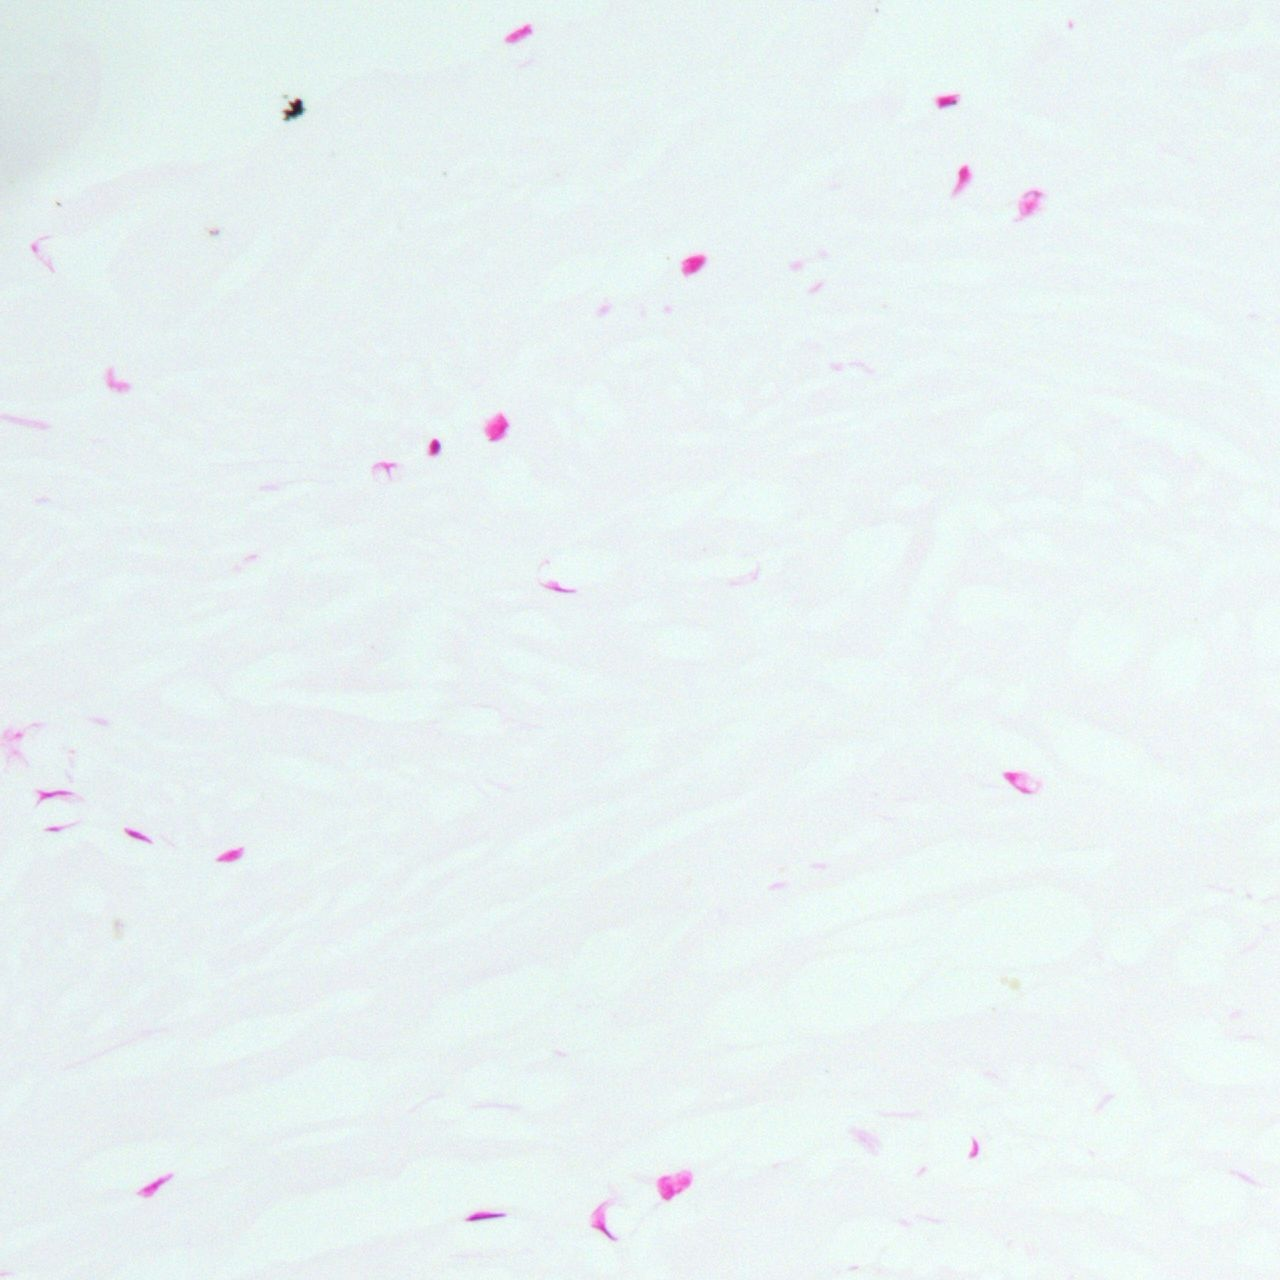dust: (281, 94, 302, 121)
nucleus-FG: (674, 246, 712, 280), (485, 411, 509, 441), (933, 91, 962, 110), (427, 438, 441, 456)
